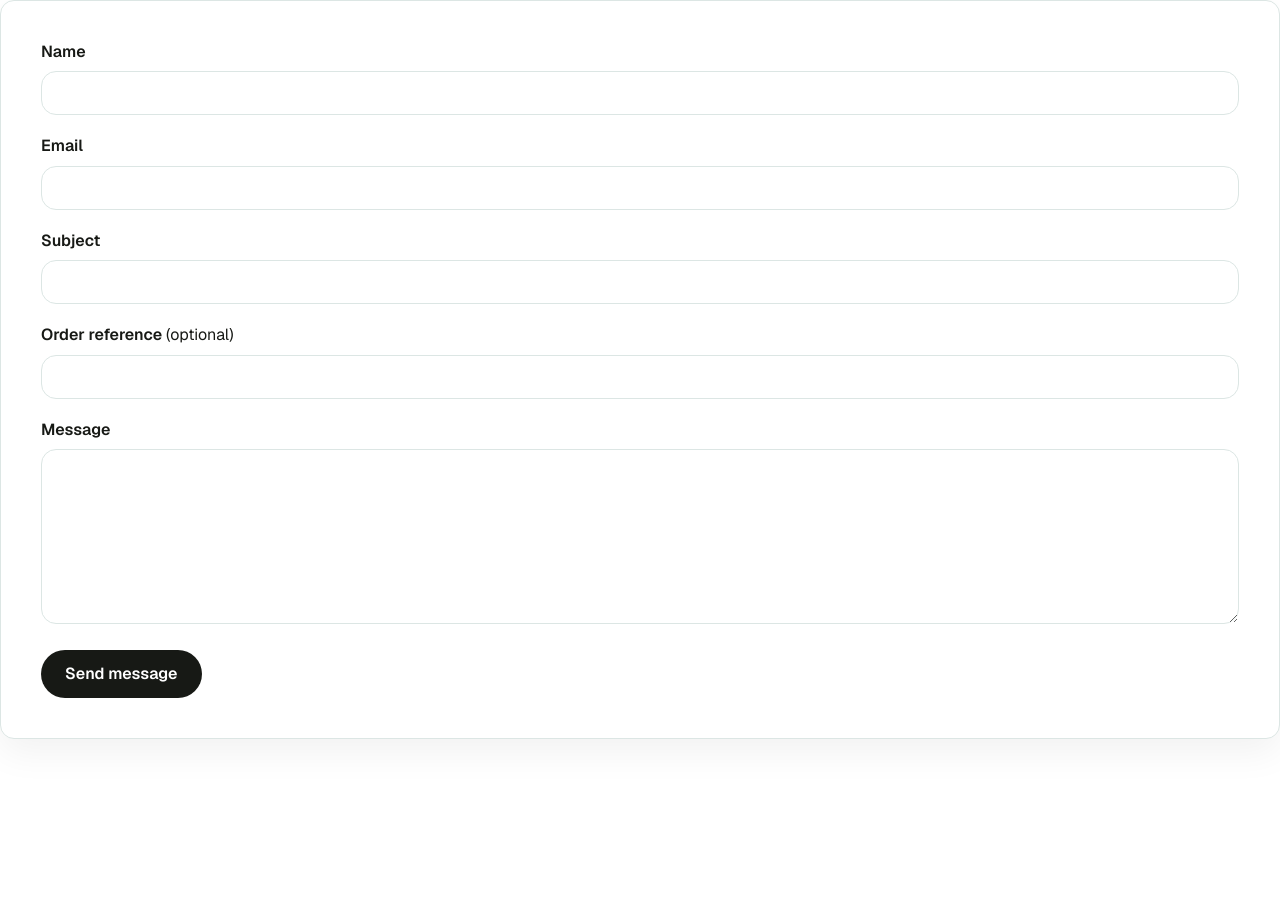
Test: ContactForm › clears settled UNAVAILABLE feedback when the visitor edits the form
This screenshot has width=1280, height=900.
Type "Ada" into the field labelled "Name" at x=640, y=93, box [41,71,1239,115]
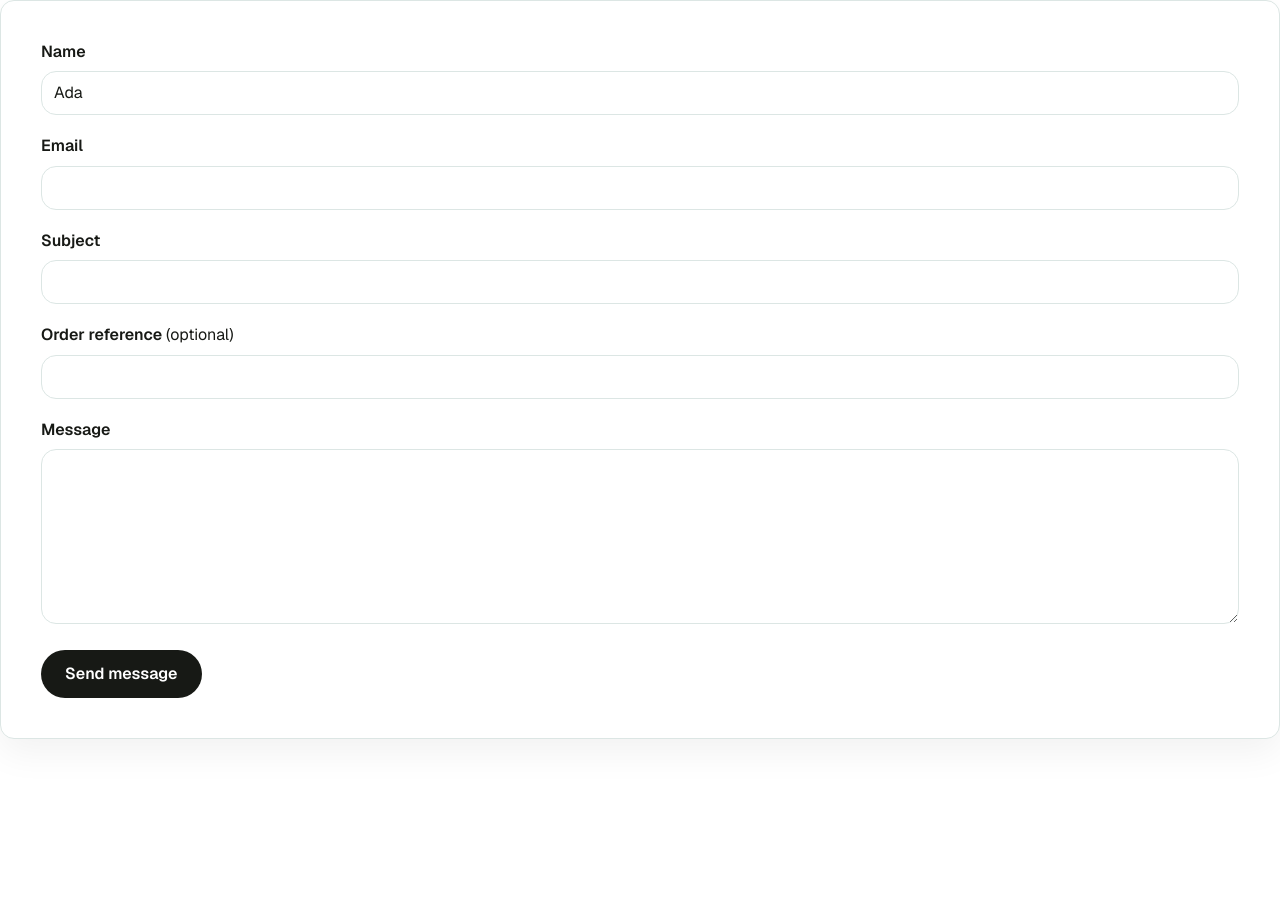
Type "ada@example.test" into the field labelled "Email" at x=640, y=188, box [41,166,1239,210]
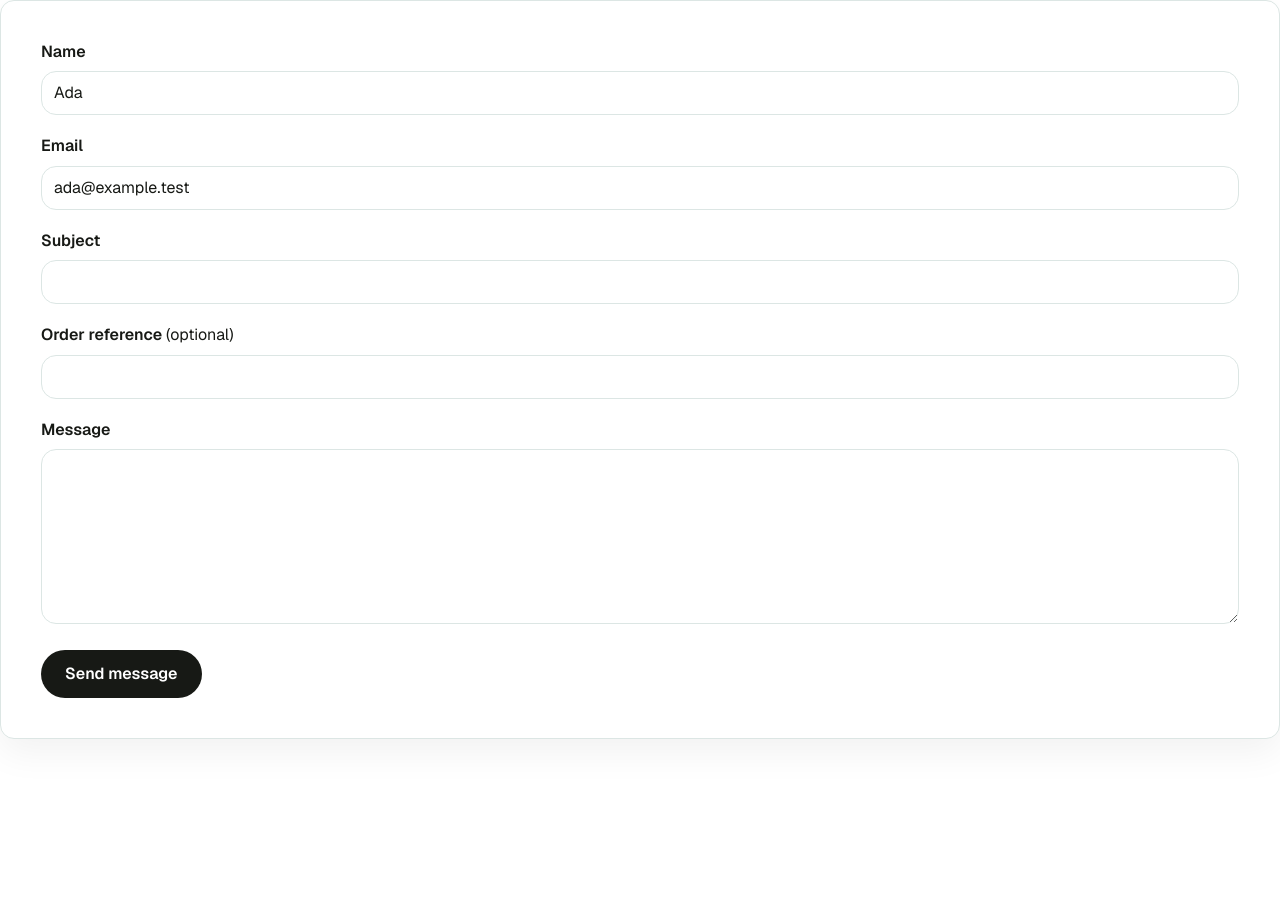
Type "Question" into the field labelled "Subject" at x=640, y=282, box [41,260,1239,304]
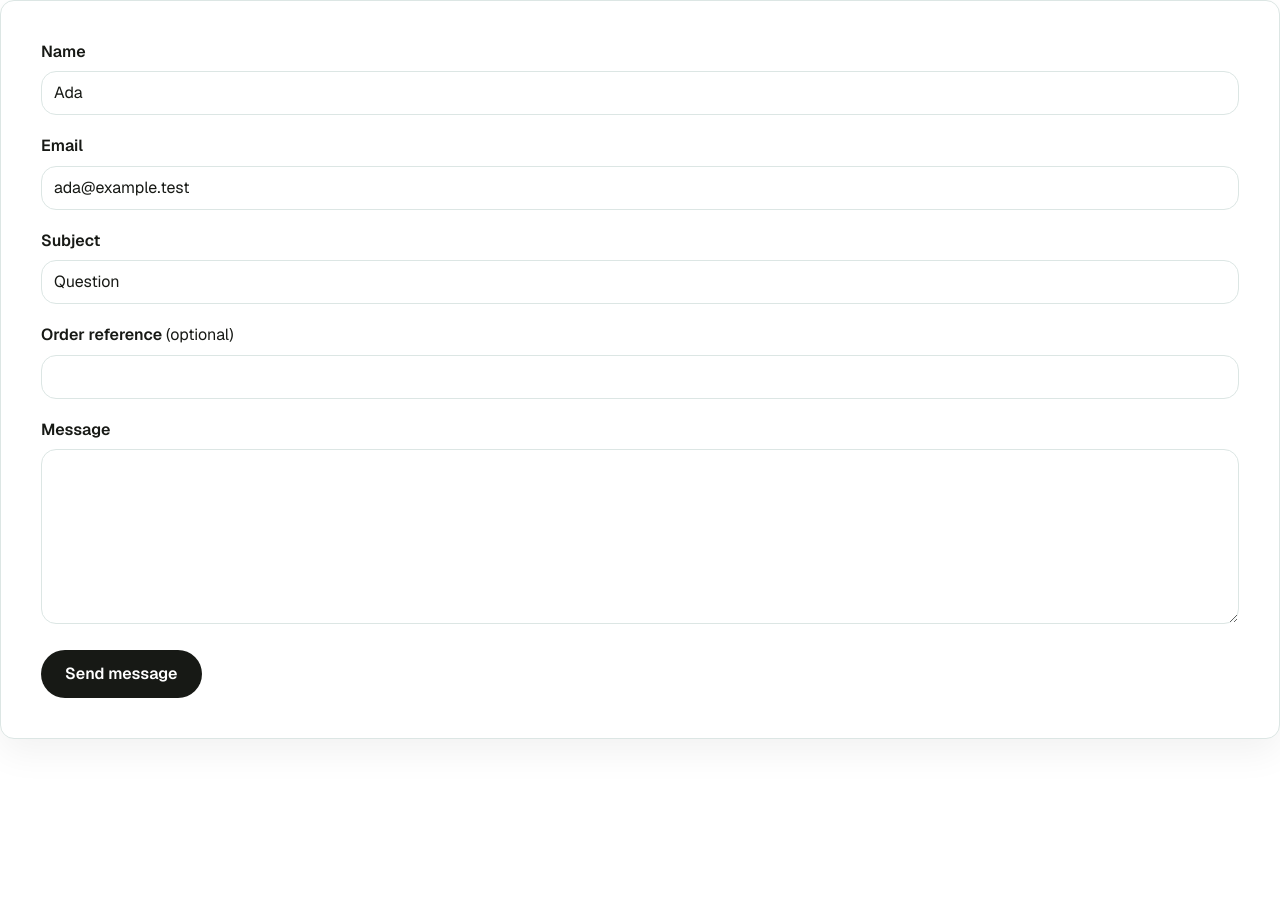
Type "Hello" into the text box labelled "Message" at x=640, y=536, box [41,449,1239,624]
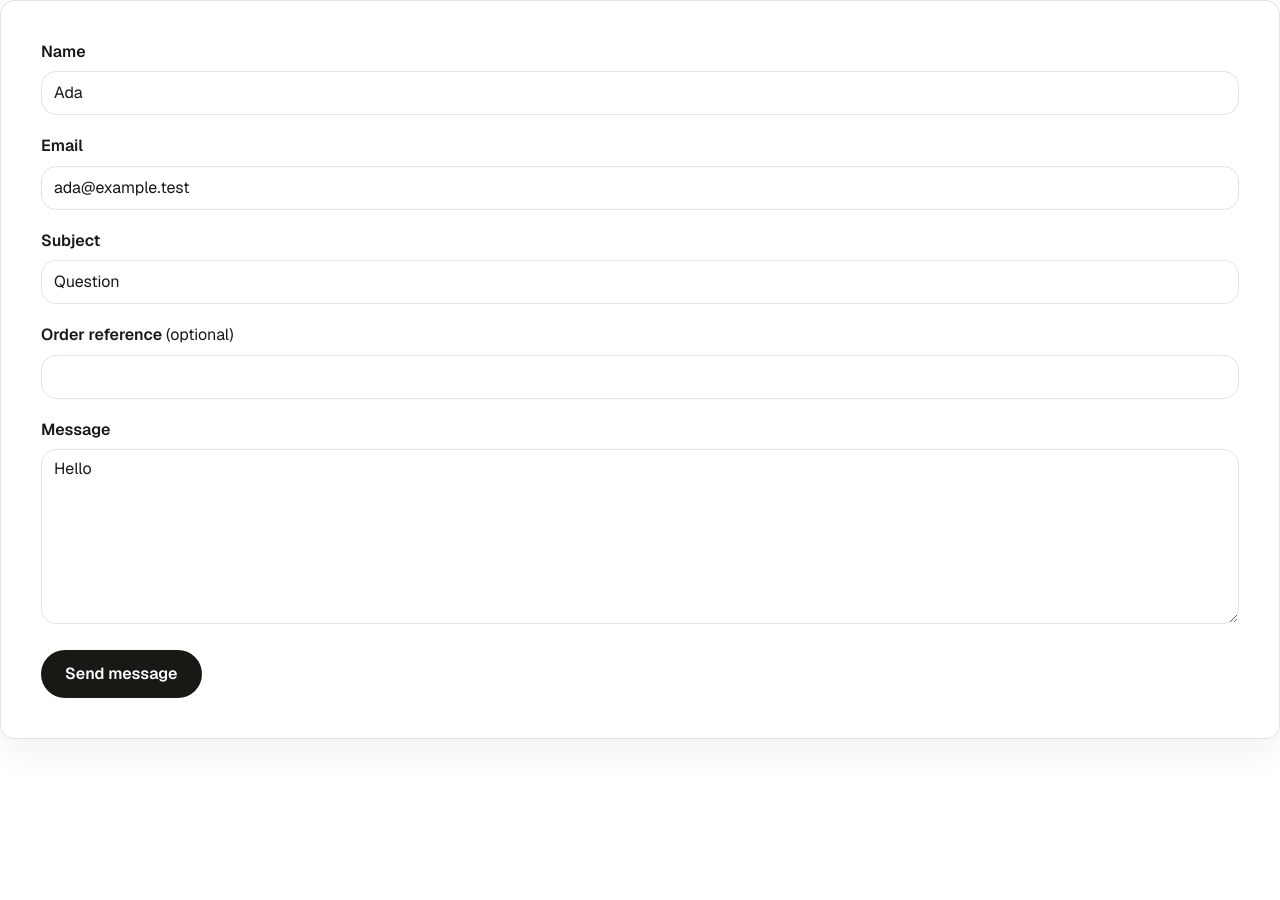
Submit the form
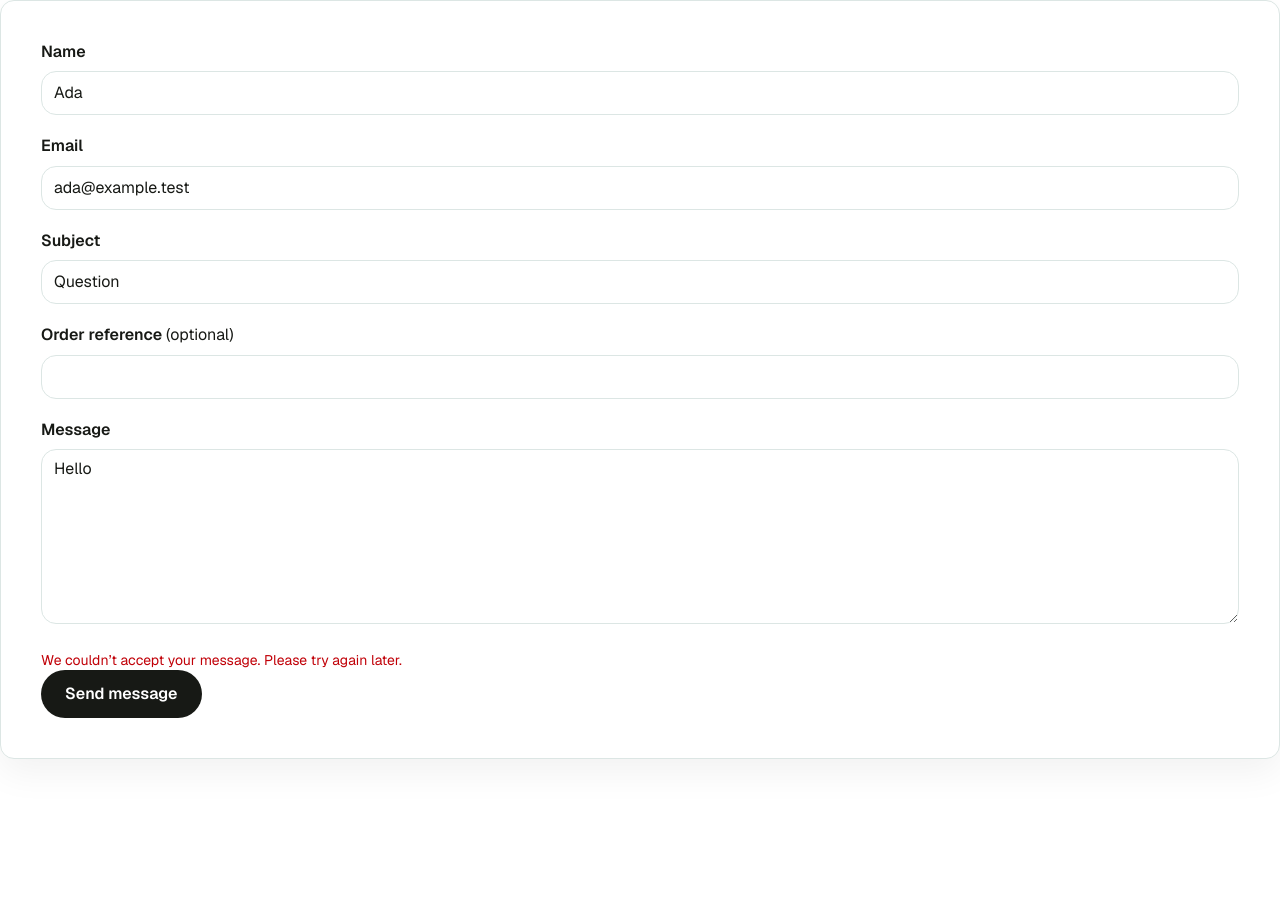
Now the message "We couldn’t accept your message. Please try again later." is shown, box [41,651,402,669]
Replace the text in the field labelled "Email" with "updated@example.test" at x=640, y=188, box [41,166,1239,210]
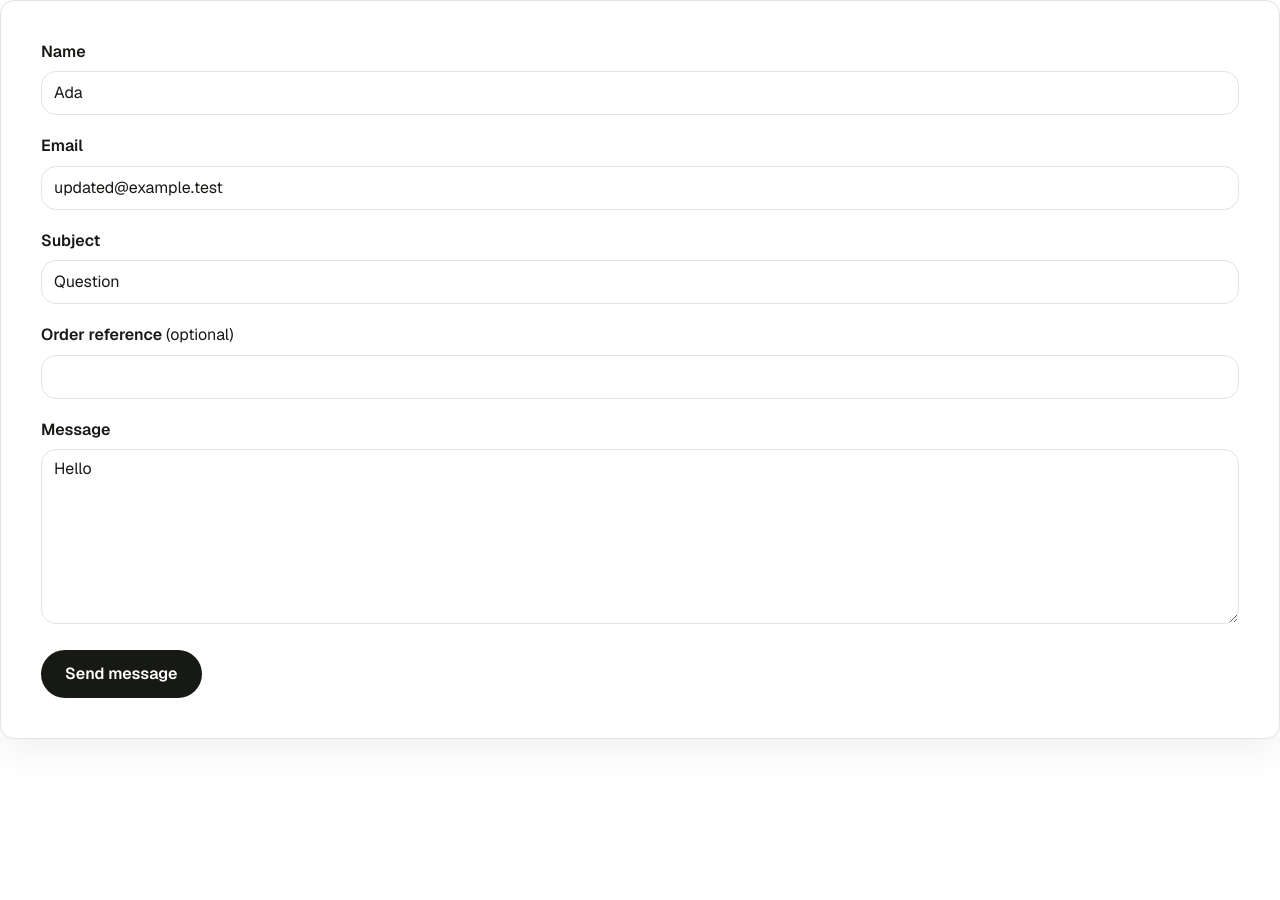
Now the message "We couldn’t accept your message. Please try again later." is gone
